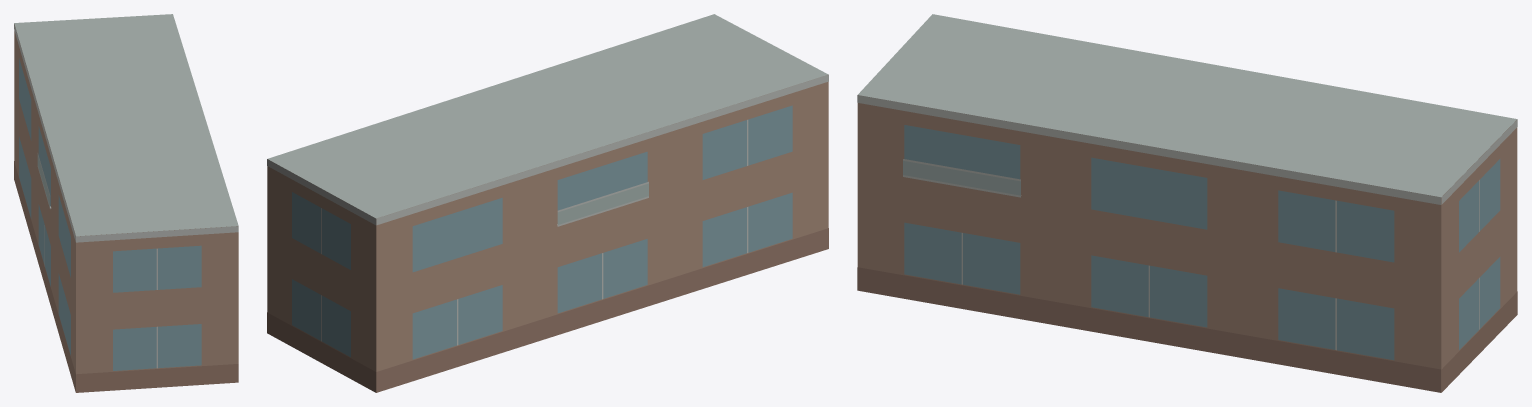
File: survey-upis-32520377.glb
3 renders of one model, left to right at view 1: azimuth 30°, elevation 25°; view 2: azimuth 150°, elevation 25°; view 3: azimuth 270°, elevation 25°, orthographic. The views are drawn at different scales.
Visible parts, largest first — view 1: survey-upis-32520377.tmp; view 2: survey-upis-32520377.tmp; view 3: survey-upis-32520377.tmp.
Part boxes in pixels (bbox=[...]): survey-upis-32520377.tmp: bbox=[14, 14, 238, 392]; survey-upis-32520377.tmp: bbox=[267, 14, 828, 392]; survey-upis-32520377.tmp: bbox=[857, 14, 1517, 392].
Bounding box in the file's own units: 12.27 × 6.1 × 18.67.
